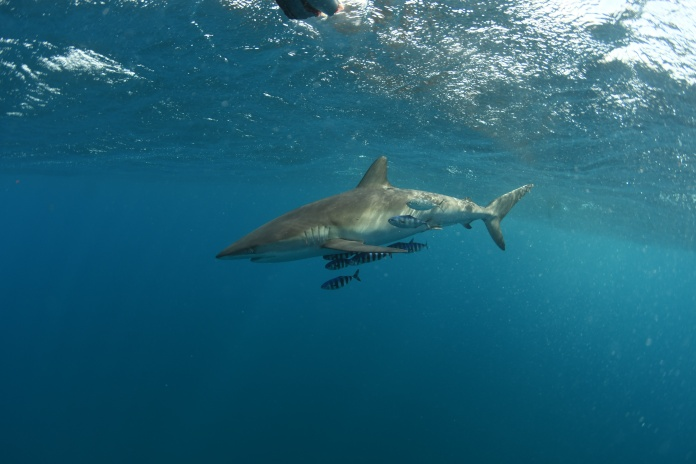Sedoso: (208, 150, 543, 285)
